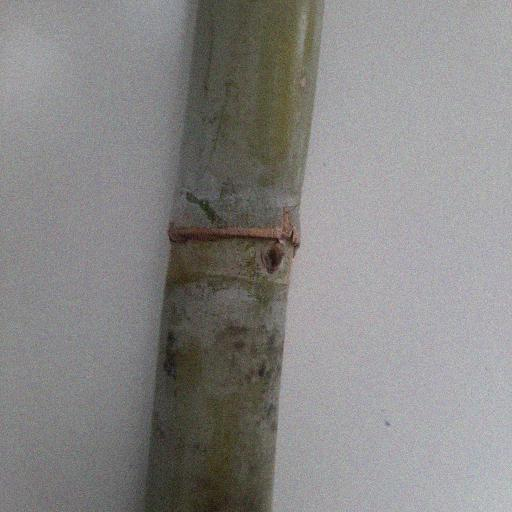Bud: (259, 242, 287, 276)
